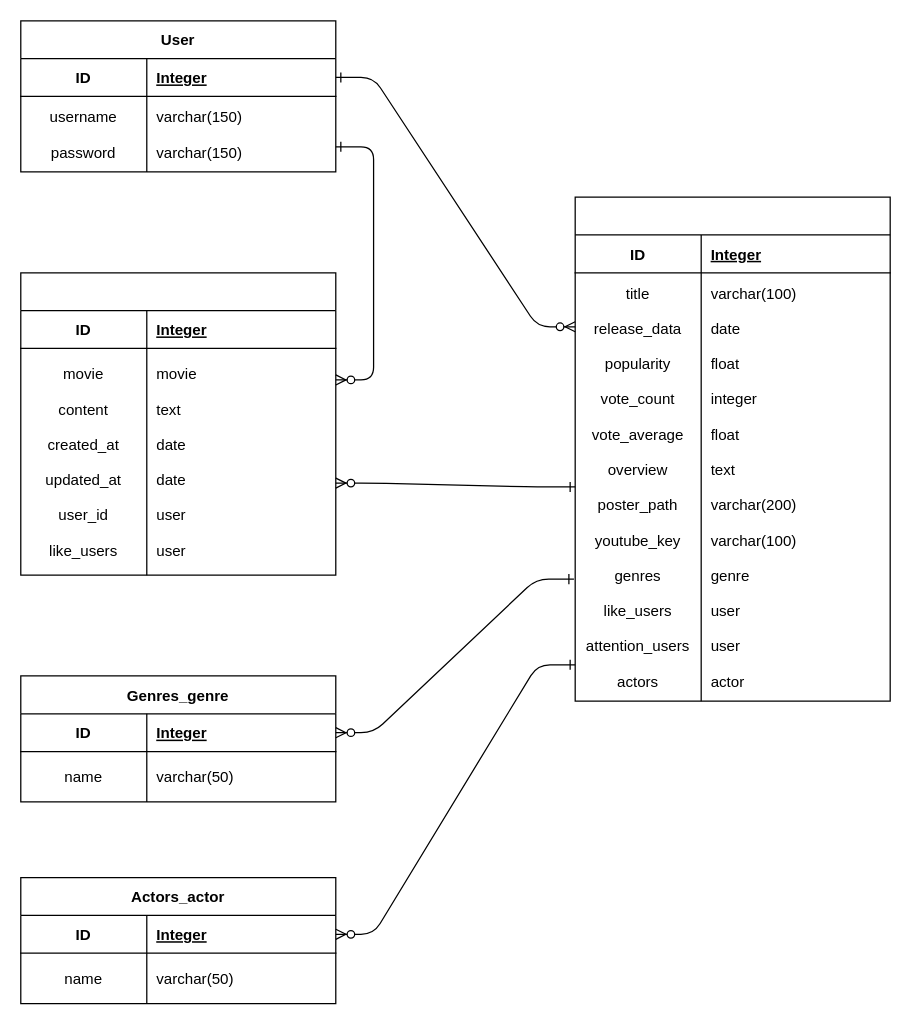
The diagram is 911 pixels wide and 1024 high, and some of its shapes have lost their labels. The box of each missing label's shape, as (x1, y1, x2, y2) in pixels:
Comments_comment: (20, 272, 336, 575)
Movies_Movie: (574, 196, 890, 701)
